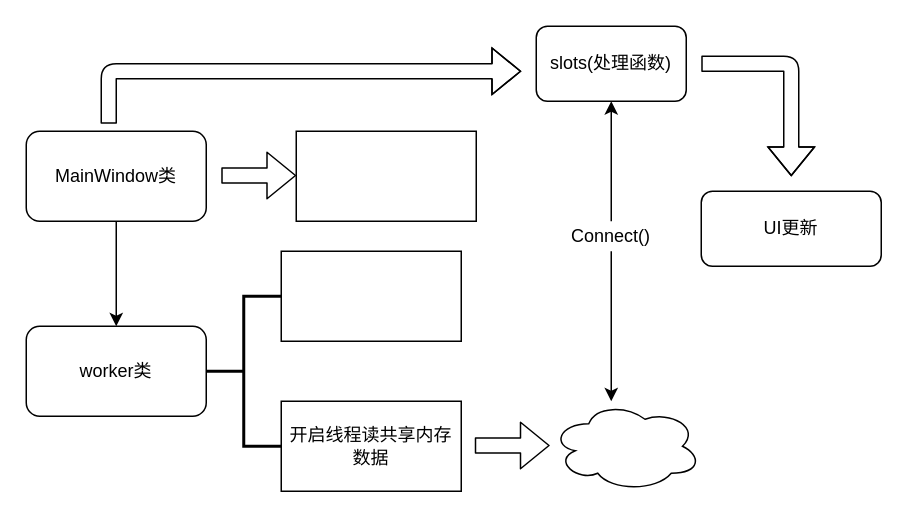
The diagram is 908 pixels wide and 518 high, and some of its shapes have lost their labels. Each missing label, with the centre of its shape:
"signal" goes at (625,445).
"开启Testconsole进程" goes at (370,295).
"触发按钮事件 socket发送消息" goes at (385,175).
